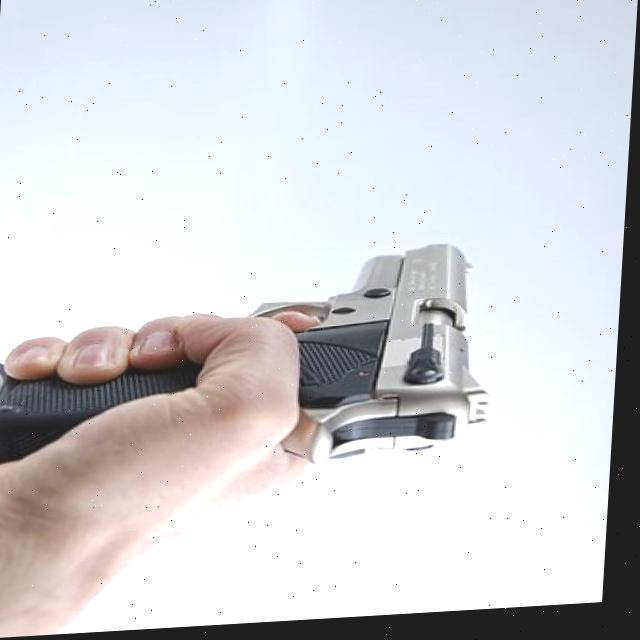gun: (0, 246, 500, 485)
